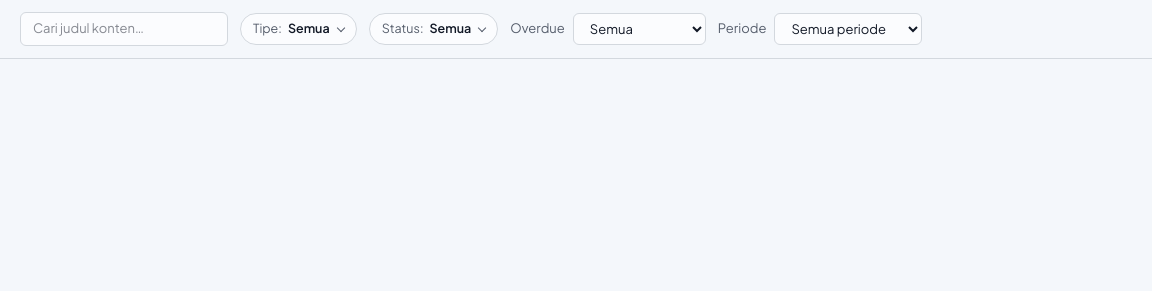
MyTaskFilters › offers every status a creator can see on Semua, never a pending proposal
Step 1. Click the button "Status: Semua" → x=434, y=29, box [369,13,498,45]
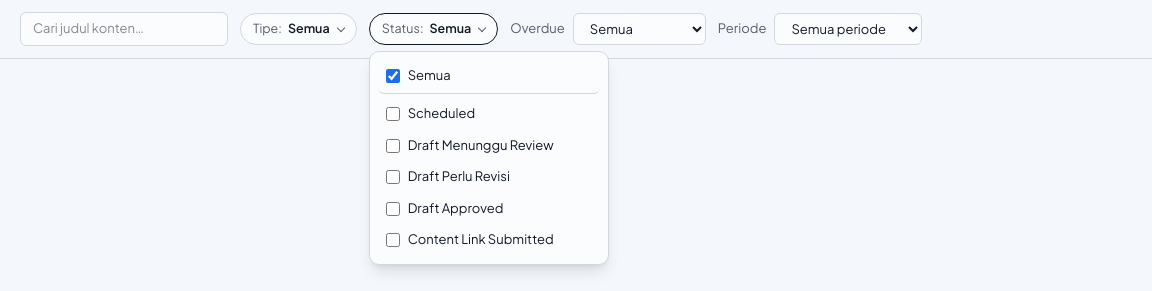
expect the checkbox labelled "Semua" is shown: met, box [386,68,400,82]
expect the checkbox labelled "Scheduled" is shown: met, box [386,107,400,121]
expect the checkbox labelled "Draft Menunggu Review" is shown: met, box [386,138,400,152]
